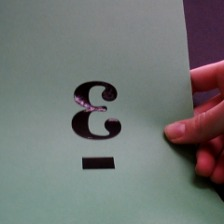green3: (64, 75, 131, 176)
